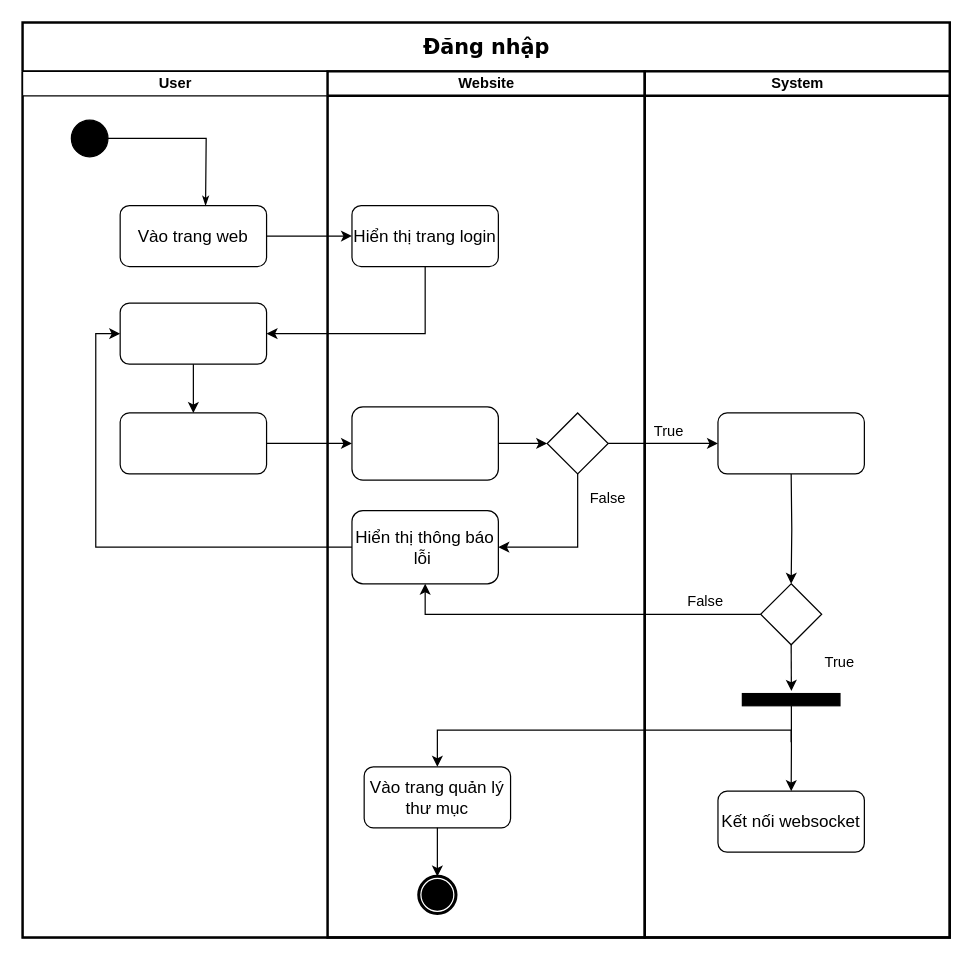
Image size: 971x959. Some labels were removed from this diagram. The box of each missing label's shape, as (x1, y1, x2, y2) in pixels:
Click đăng nhập: (119, 412, 267, 474)
Kiểm tra thông tin user: (717, 412, 864, 474)
Kiểm tra thông tin đăng nhập về cú pháp: (351, 406, 498, 480)
Điền thông tin: (119, 302, 267, 364)
